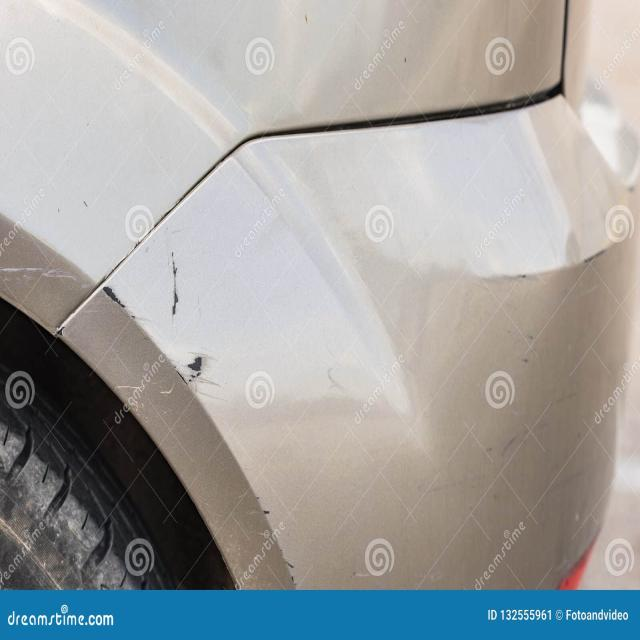scratch: (113, 347, 227, 414), (249, 493, 301, 589), (481, 419, 551, 459), (101, 283, 161, 328), (0, 263, 87, 293), (162, 225, 183, 316), (506, 331, 539, 368), (580, 245, 613, 269), (516, 271, 531, 283), (54, 323, 65, 339)
